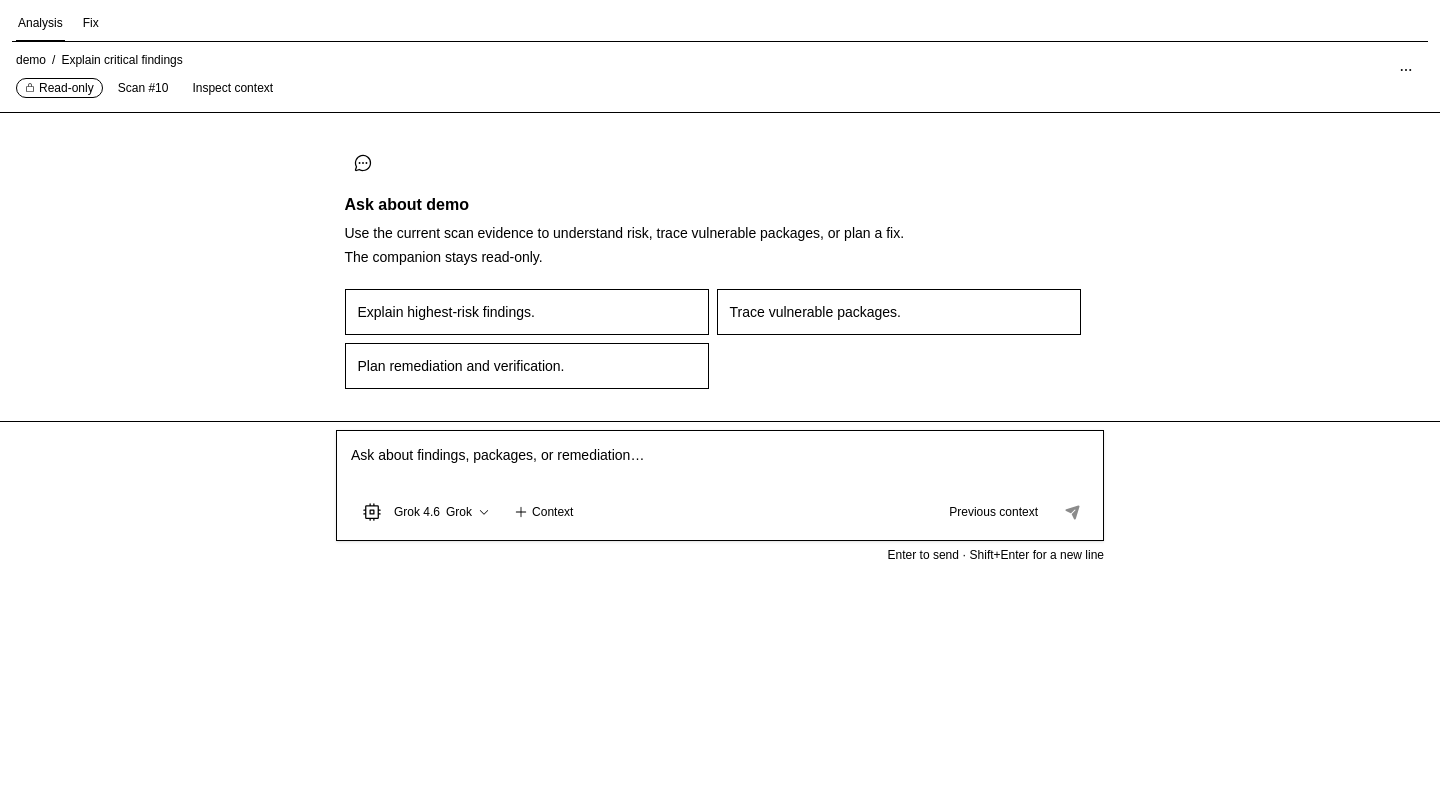
Test: RepositoryChat › attributes context to its recorded connection/model and hides Codex quota on another provider
The image size is (1440, 810).
Click the button with aria-label "Previous context reading". click: coordinates (994, 512)
box: top-left (940, 496), bottom-right (1047, 528)
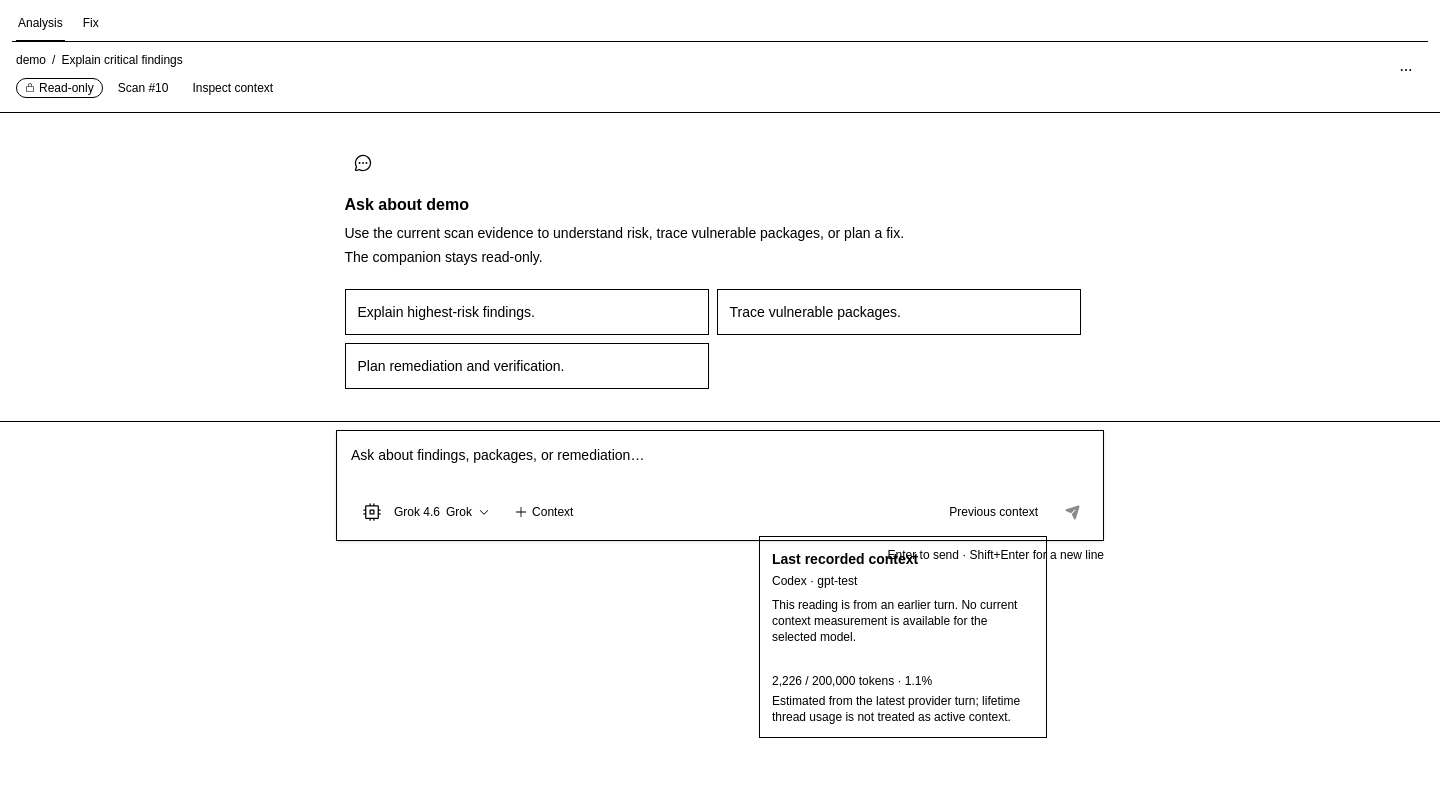
Now the heading "Last recorded context" is shown, box top-left (772, 551), bottom-right (918, 567)
Now the text "Codex · gpt-test" is shown, box top-left (772, 574), bottom-right (857, 588)
